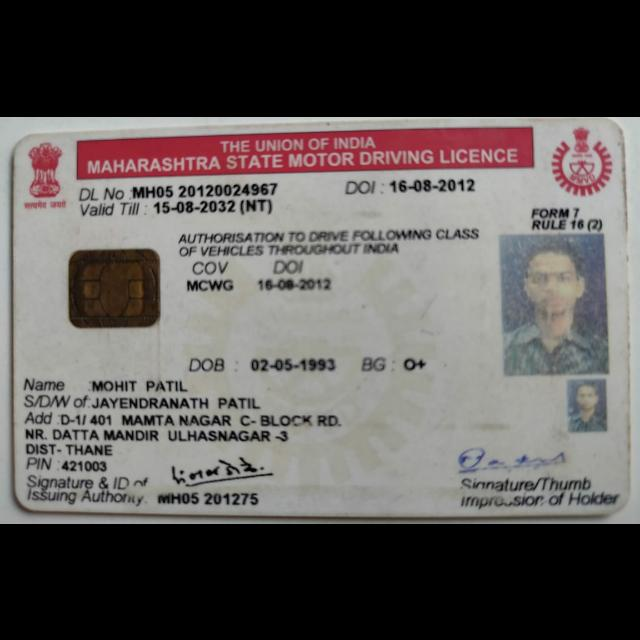driving_licence: (4, 116, 634, 524)
